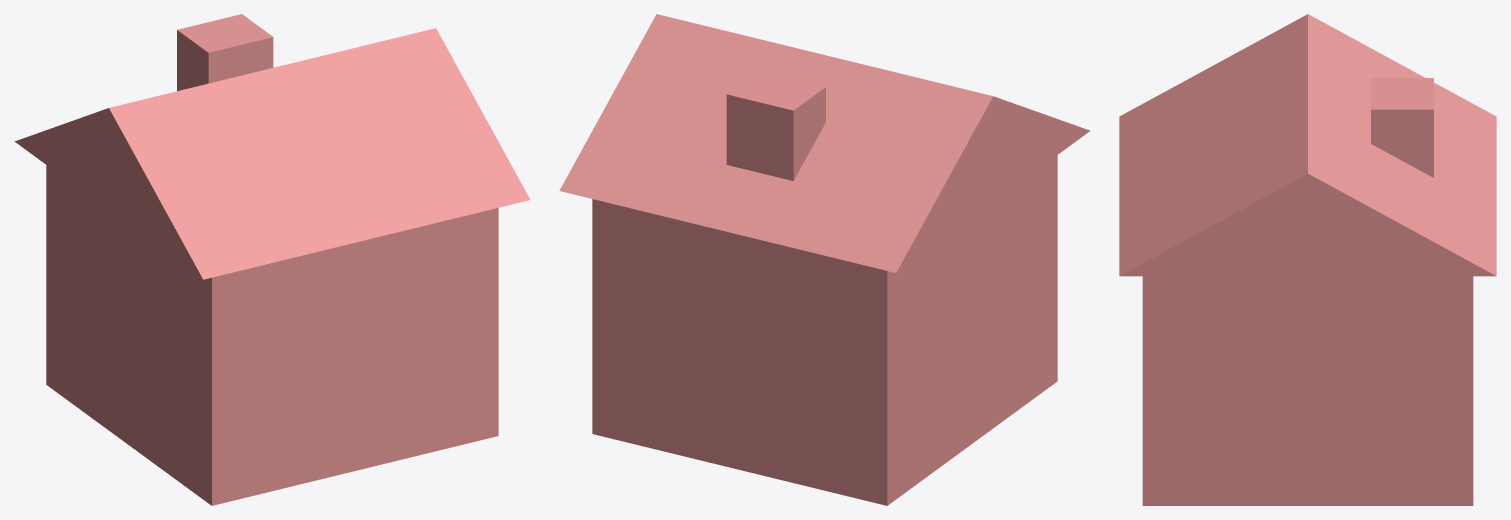
Rendered from house.gltf.
3 views of the same model, side by side, from view 1: azimuth 30°, elevation 25°; view 2: azimuth 150°, elevation 25°; view 3: azimuth 270°, elevation 25° (orthographic). The views are drawn at different scales.
Visible parts, largest first — view 1: Box002; view 2: Box002; view 3: Box002.
Boxes of the visible parts, bbox=[...] form: Box002: bbox=[14, 14, 530, 505]; Box002: bbox=[559, 14, 1090, 505]; Box002: bbox=[1119, 14, 1496, 505].
Size of the model in its own units: 1 by 1 by 1.
